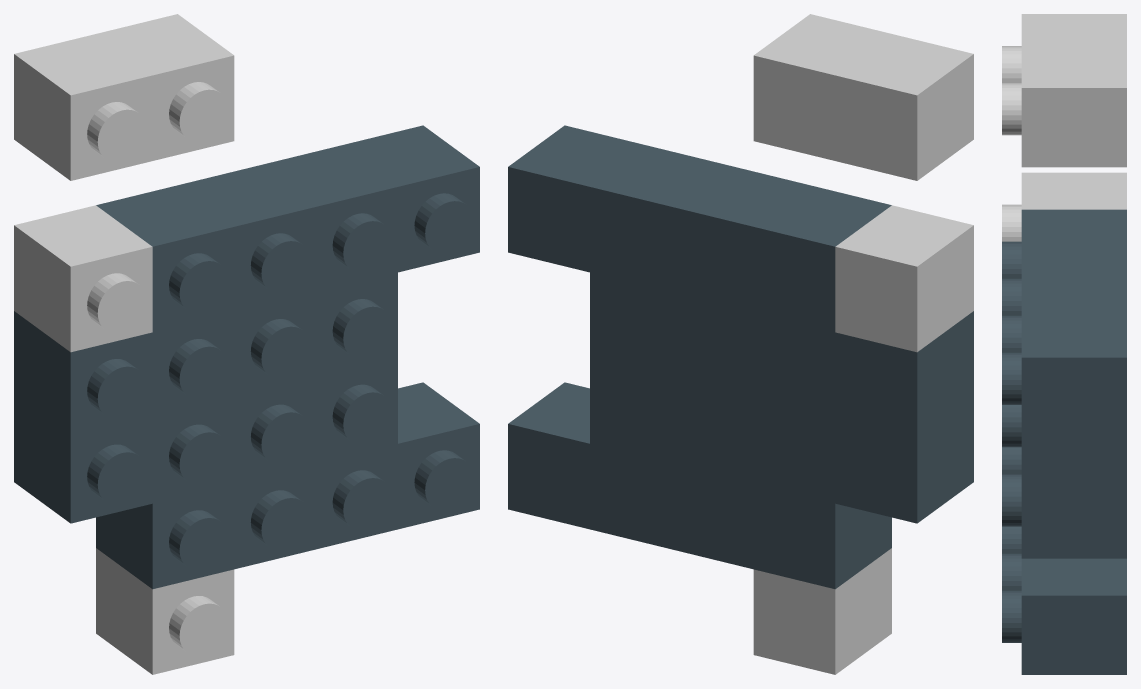
Rendered from current.glb.
3 views of the same model, side by side, from view 1: azimuth 30°, elevation 25°; view 2: azimuth 150°, elevation 25°; view 3: azimuth 270°, elevation 25° (orthographic). The views are drawn at different scales.
Visible parts, largest first — view 1: world; view 2: world; view 3: world.
Part boxes in pixels (x1=…): world: x1=14, y1=14, x2=479, y2=674; world: x1=508, y1=14, x2=973, y2=674; world: x1=1002, y1=14, x2=1126, y2=674.
Size of the model in its own units: 40 by 56 by 11.4.
